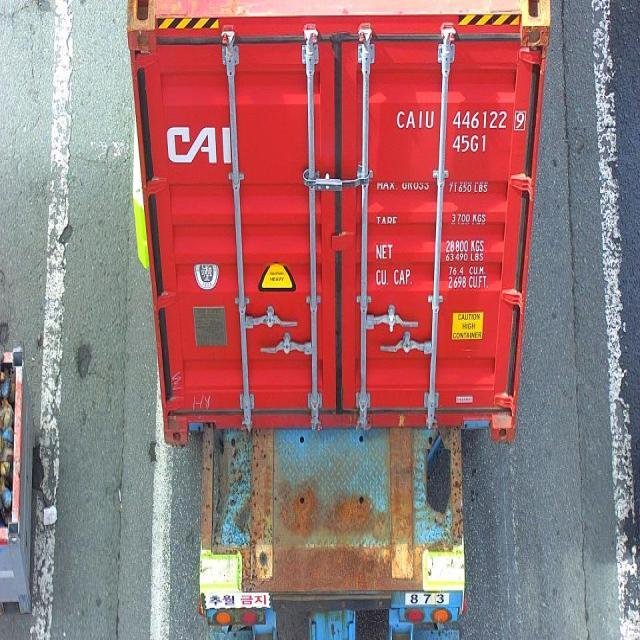ISO: (454, 132, 491, 152)
container_number: (394, 106, 526, 130)
